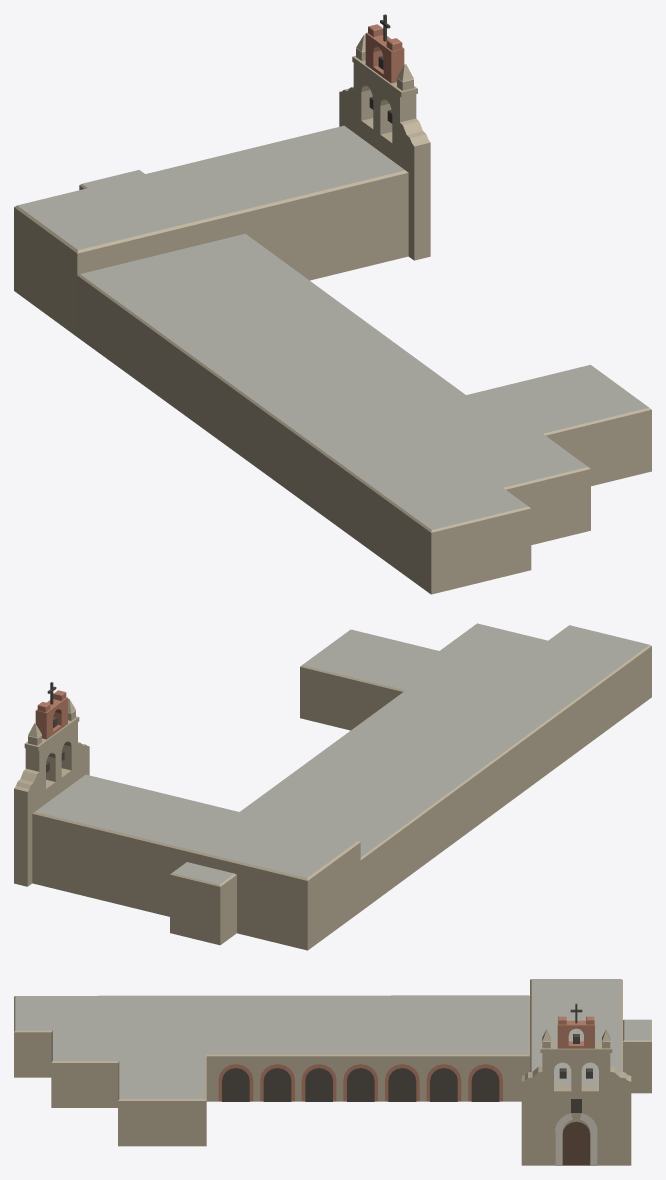
Rendered from sat-mission-espada.glb.
3 views of the same model, one above another, from view 1: azimuth 30°, elevation 25°; view 2: azimuth 150°, elevation 25°; view 3: azimuth 270°, elevation 25° (orthographic). The views are drawn at different scales.
Visible parts, largest first — view 1: Mission Espada; view 2: Mission Espada; view 3: Mission Espada.
Boxes of the visible parts, x1=… form: Mission Espada: x1=14, y1=14, x2=651, y2=594; Mission Espada: x1=14, y1=623, x2=651, y2=950; Mission Espada: x1=14, y1=979, x2=651, y2=1165.
Size of the model in its own units: 21.26 by 12.6 by 46.
